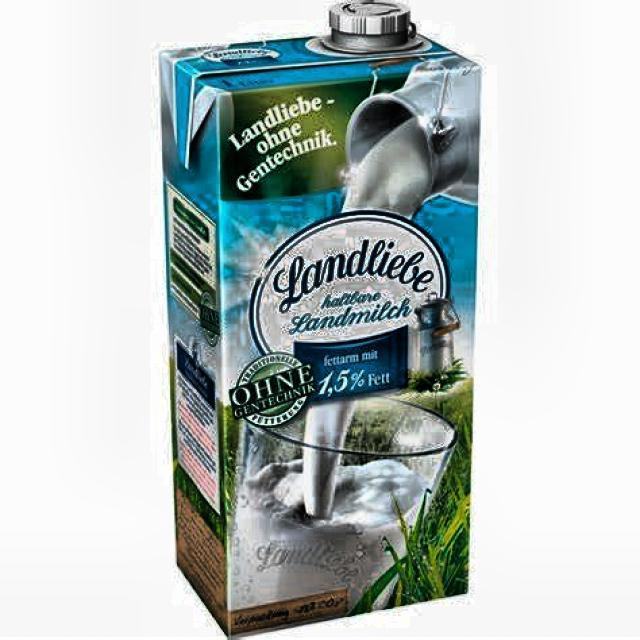cardboard: (158, 1, 480, 639)
